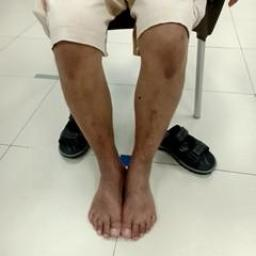Dorsal View -Both Feet-: (63, 136, 180, 248)
